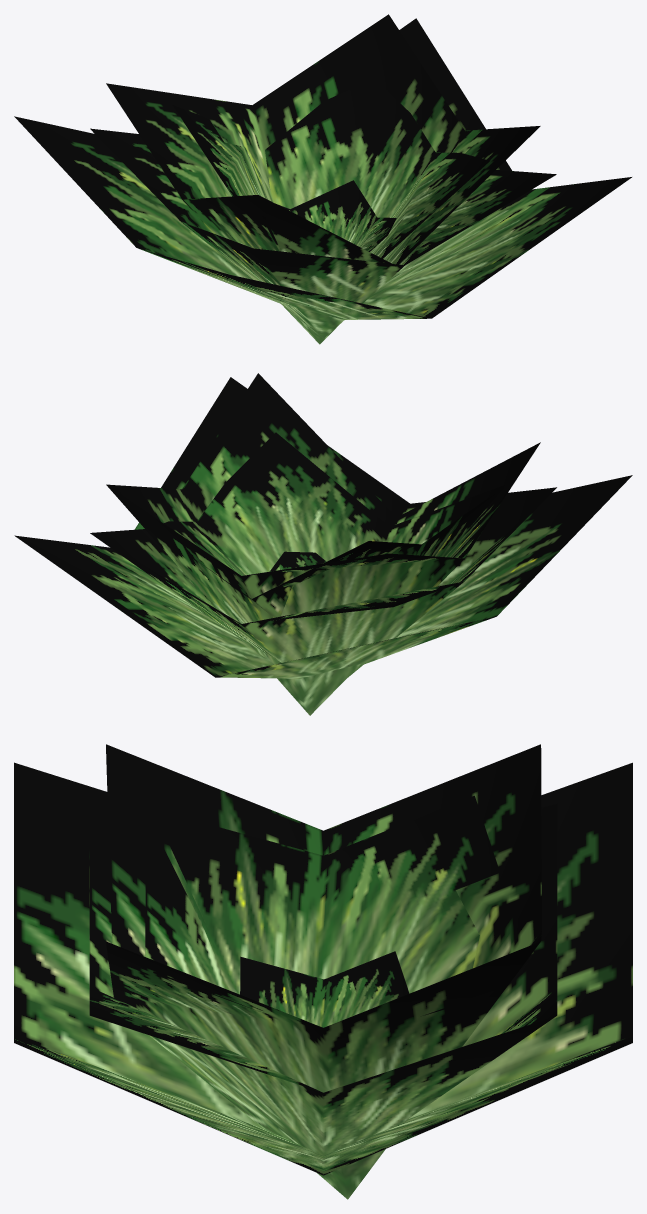
File: Festuca.fbx
The picture shows the model from 3 angles, top to bottom: view 1: azimuth 30°, elevation 25°; view 2: azimuth 150°, elevation 25°; view 3: azimuth 270°, elevation 25°; orthographic projection. The views are drawn at different scales.
Visible parts, largest first — view 1: Festuca; view 2: Festuca; view 3: Festuca.
Part boxes in pixels (x1,y1,x2,y2): Festuca: (14,14,631,344); Festuca: (14,373,632,715); Festuca: (14,744,632,1199).
Bounding box in the file's own units: 66.33 × 39.01 × 61.88.
